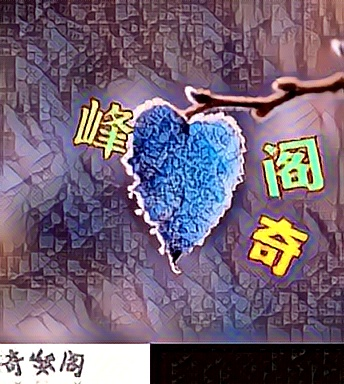B7E5: (72, 97, 137, 161)
B8F3: (261, 134, 326, 198)
C6E6: (245, 213, 310, 277)
